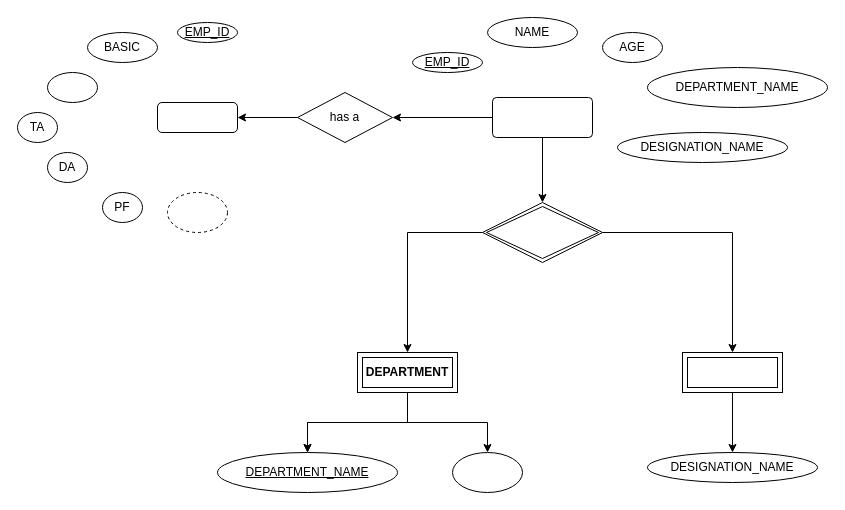
Image size: 845x510. Some labels were removed from this diagram. The shapes that lost their labels are listed below. From the top down, each one's centre as x and y in pixels, then its label:
At pixel 72 87: "HRA".
At pixel 197 117: "SALARY".
At pixel 542 117: "EMPLOYEE".
At pixel 197 212: "TOTAL".
At pixel 542 232: "works in".
At pixel 732 372: "DESIGNATION".
At pixel 487 472: "HOD".
